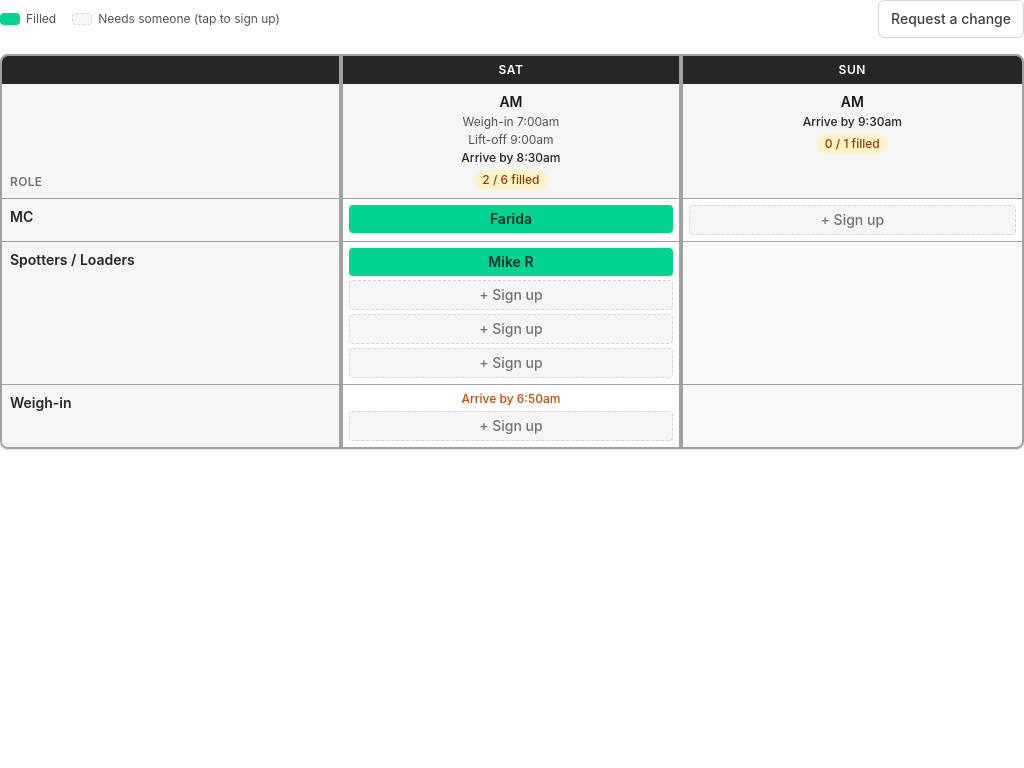
Test case: PublicRotaBoard — signing up › submits a sign-up, shows the confirmation and remembers the details
Click the button with aria-label "Sign up for Sat AM · Weigh-in" at (511, 426), box [349,411,673,441]
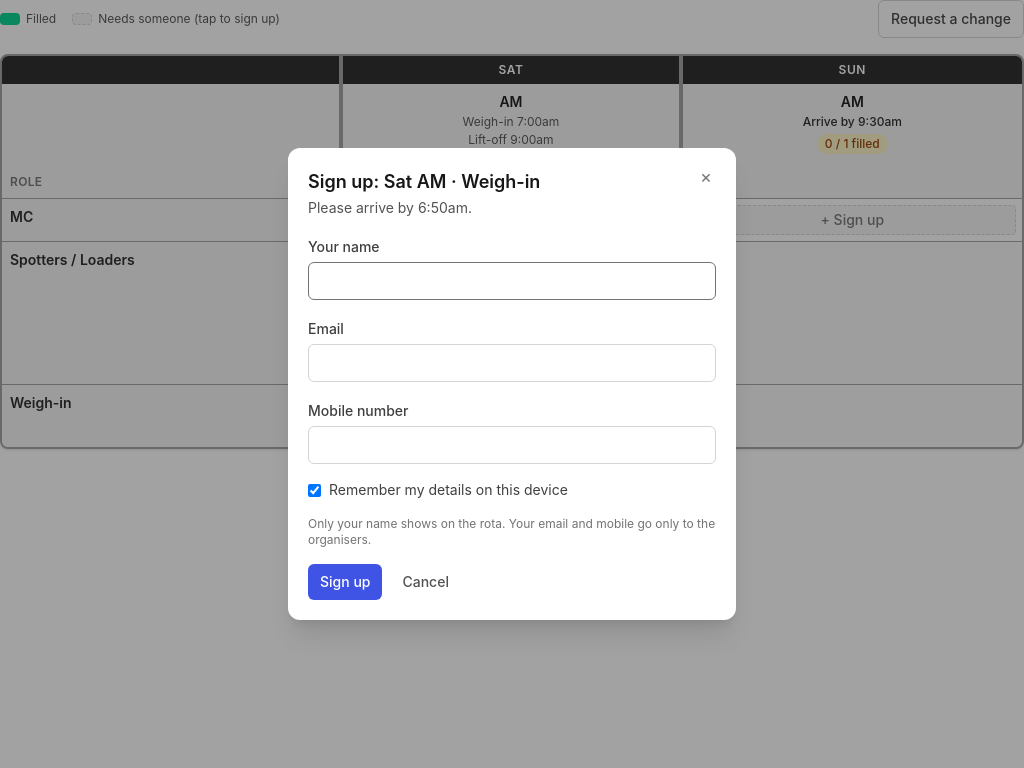
Type "Dana" into the field labelled "Your name" at (512, 281), box [308,262,716,300]
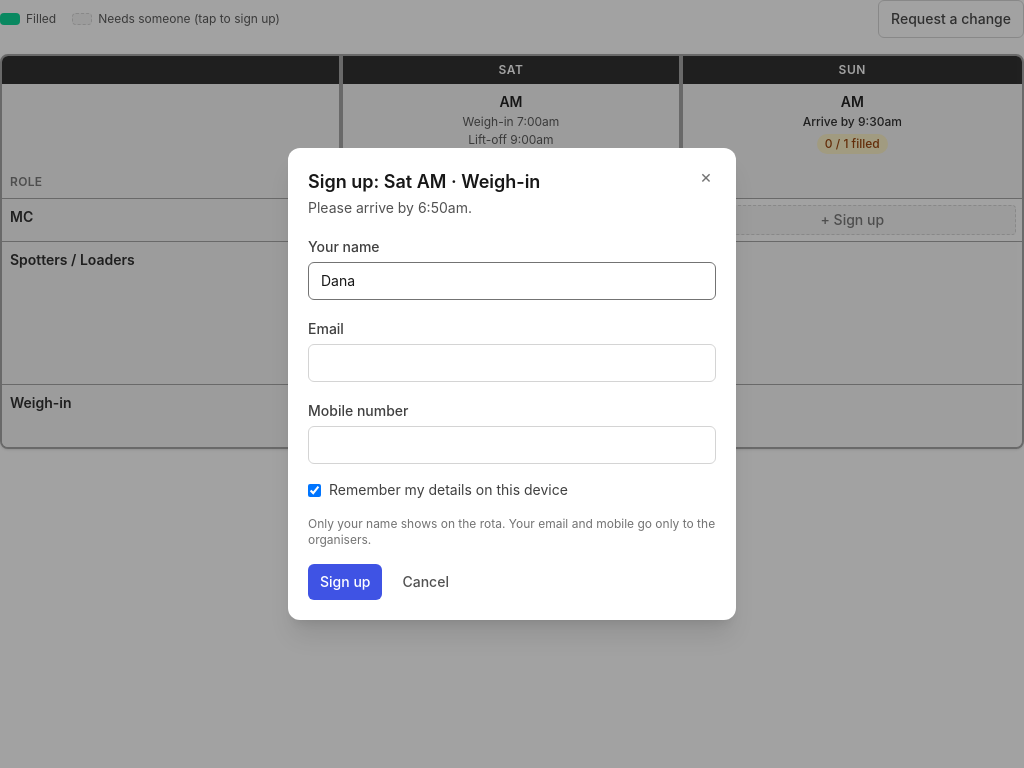
Type "dana@example.com" into the field labelled "Email" at (512, 363), box [308,344,716,382]
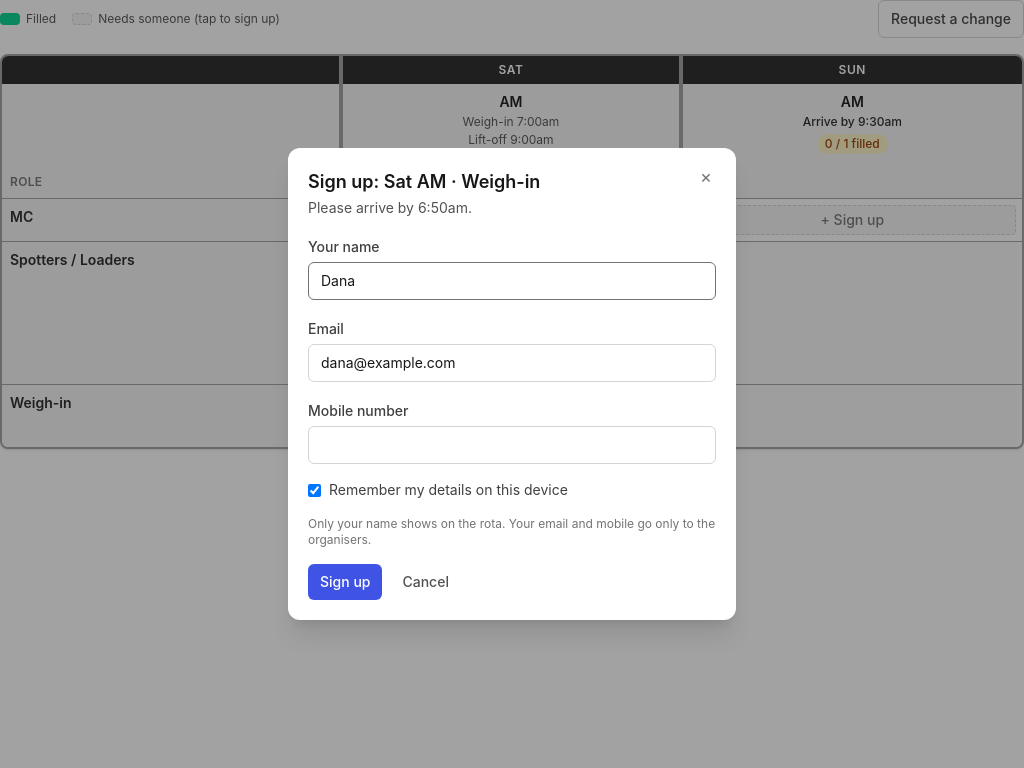
Type "07700900000" into the field labelled "Mobile number" at (512, 445), box [308,426,716,464]
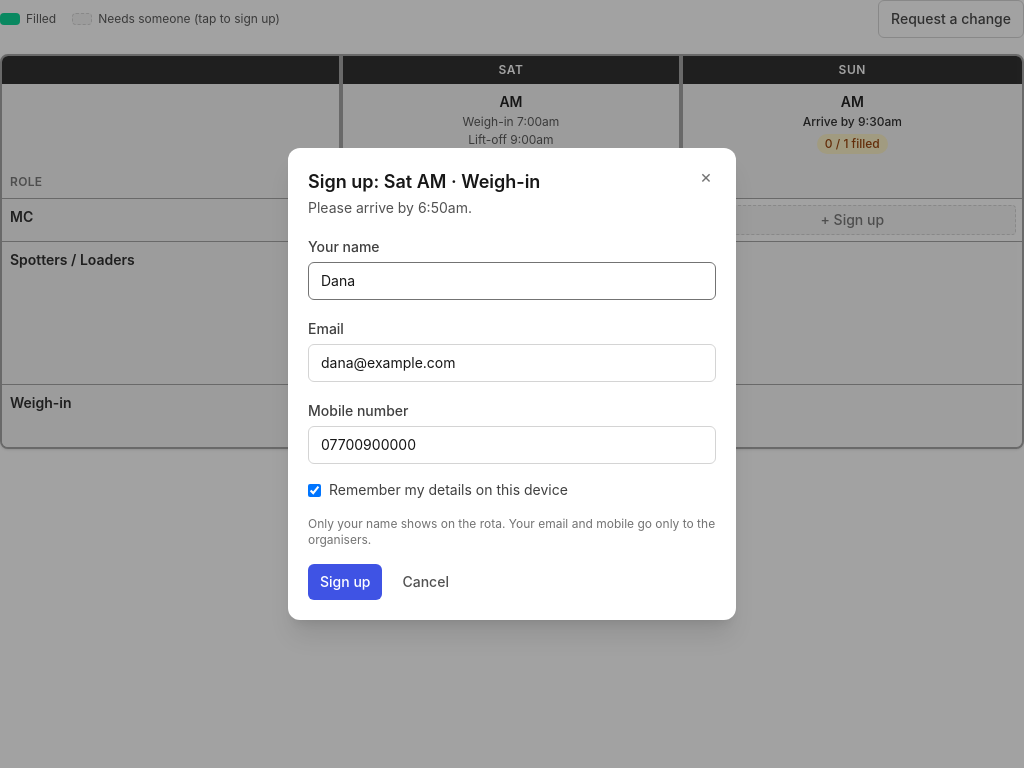
Click the button "Sign up" at (345, 582), box [308,564,382,600]
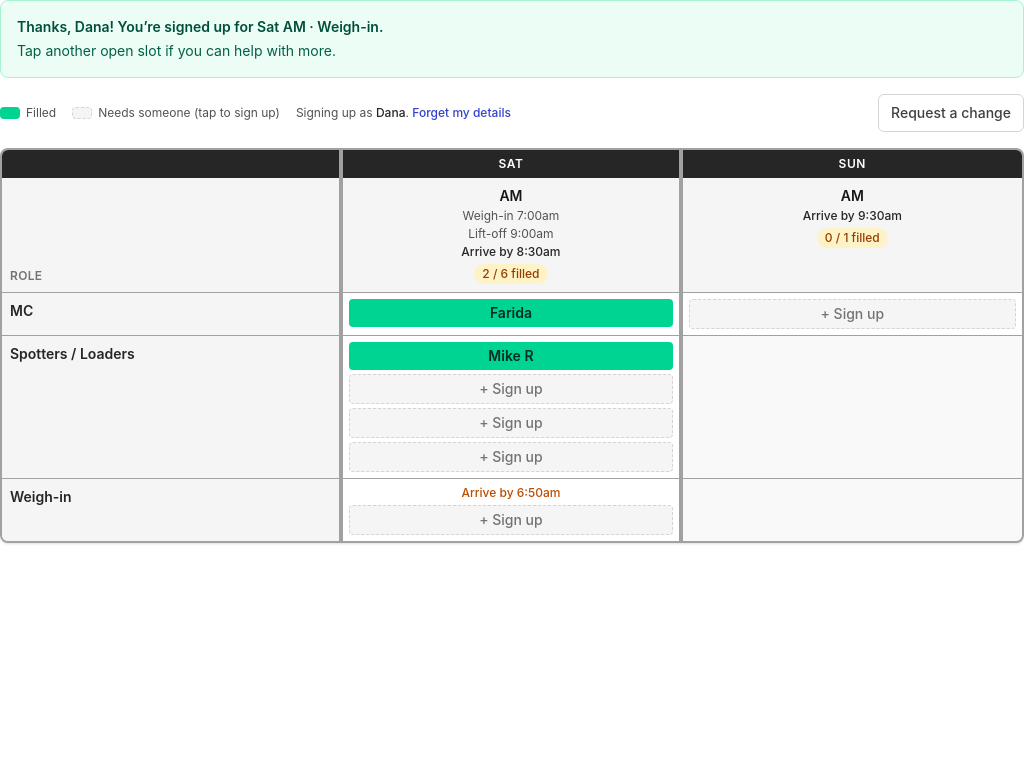
expect the text "Thanks, Dana! You’re signed up for Sat AM · Weigh-in." is shown: met, box [17,18,383,35]
expect the dialog is gone: met
